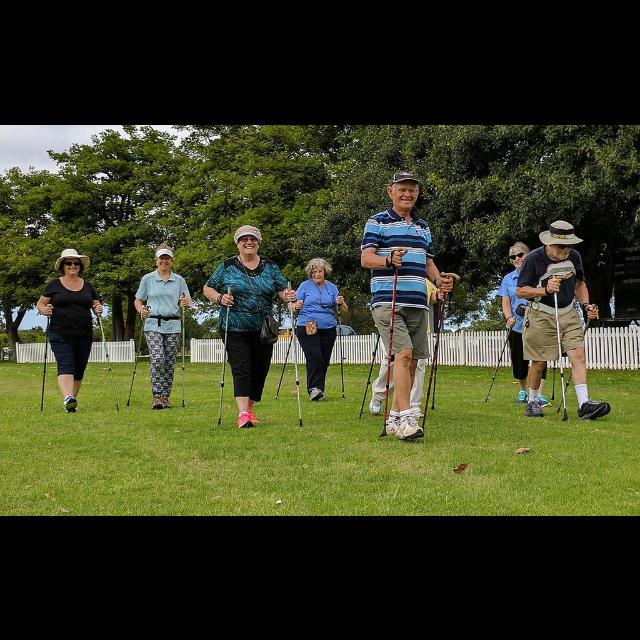head: (387, 173, 421, 211), (234, 225, 262, 257), (548, 227, 574, 259), (510, 243, 532, 269), (404, 247, 426, 271), (62, 252, 82, 276), (156, 245, 174, 269), (310, 261, 326, 283)
person: (358, 170, 462, 438), (512, 217, 614, 423), (202, 222, 300, 430), (365, 246, 451, 422), (495, 240, 567, 410), (34, 246, 106, 414), (132, 243, 195, 412), (286, 256, 350, 404)
